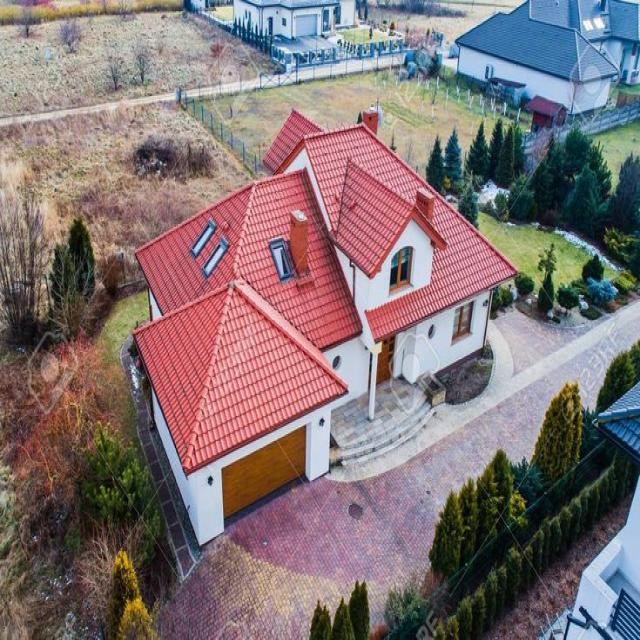house: (92, 113, 526, 556), (443, 0, 639, 117)
